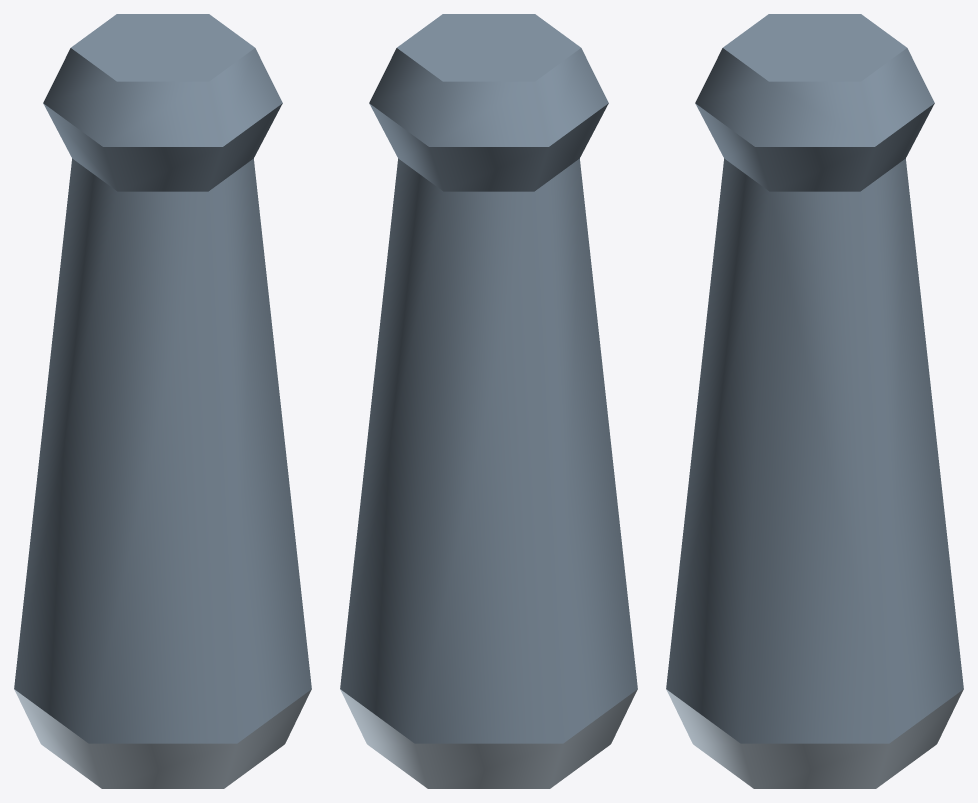
The model's file is mortarPestle.GLB.
3 views of the same model, side by side, from view 1: azimuth 30°, elevation 25°; view 2: azimuth 150°, elevation 25°; view 3: azimuth 270°, elevation 25° (orthographic).
Visible parts, largest first — view 1: mortarPestle; view 2: mortarPestle; view 3: mortarPestle.
Part boxes in pixels (<box>): mortarPestle: <box>14,14,311,788</box>; mortarPestle: <box>340,14,637,788</box>; mortarPestle: <box>666,14,963,788</box>.
Bounding box in the file's own units: 0.1142 × 0.3402 × 0.1318.
